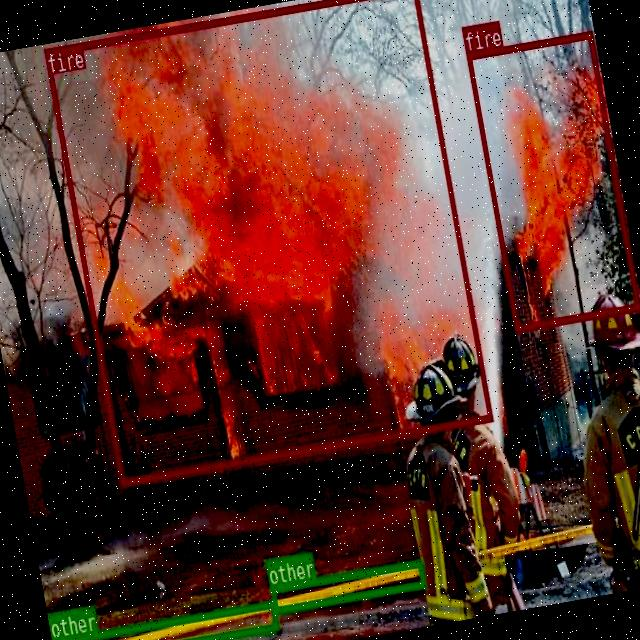fire: (42, 0, 491, 485), (465, 30, 640, 331)
